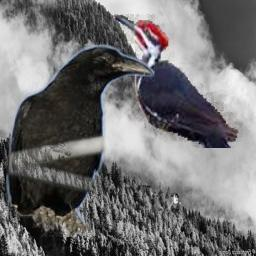Crow: (6, 44, 155, 237)
Woodpecker: (113, 14, 243, 148)
